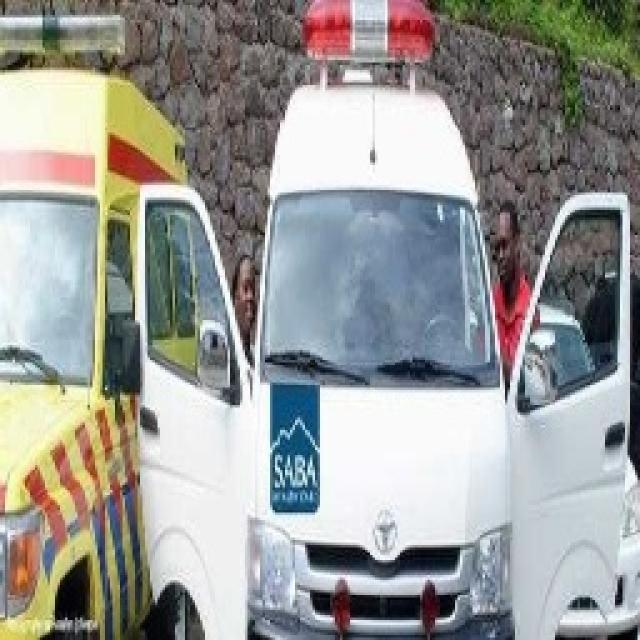emergency-vehicle: (153, 0, 591, 623)
